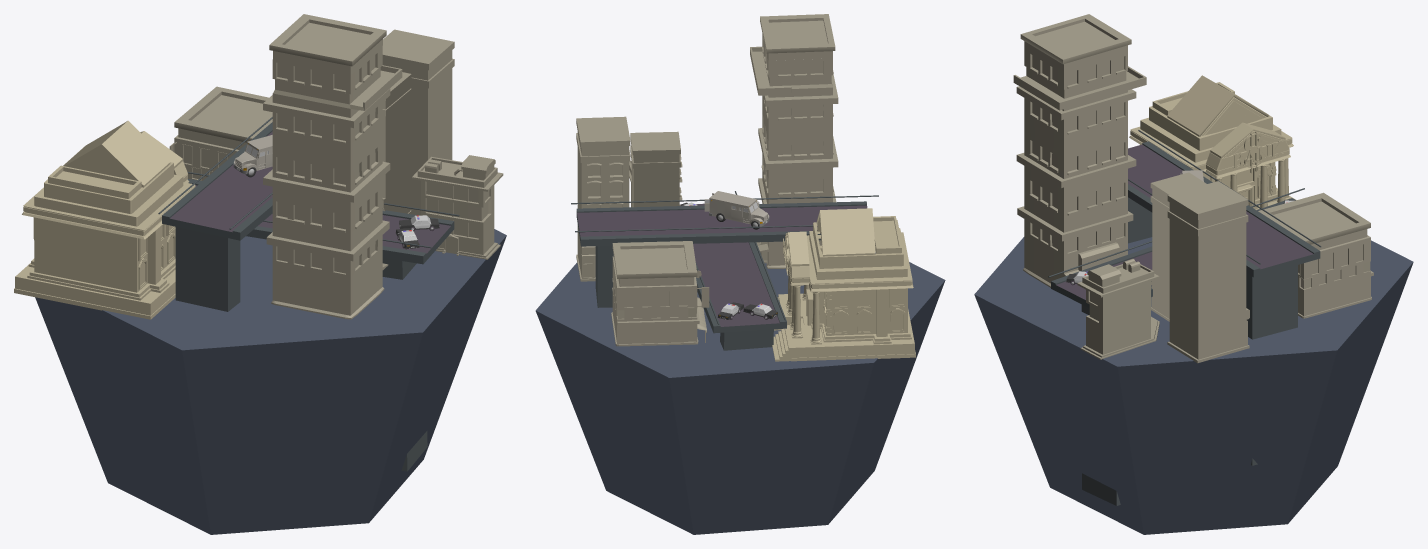
The model's file is island3.gltf.
The picture shows the model from 3 angles, left to right: view 1: azimuth 30°, elevation 25°; view 2: azimuth 150°, elevation 25°; view 3: azimuth 270°, elevation 25°; orthographic projection. The views are drawn at different scales.
Parts seen in each view (by area): view 1: island03base, island03buildings, Bank_Geo, island03bridge, island03van, island03Police_Car1; view 2: island03base, island03buildings, Bank_Geo, island03bridge, island03van, island03Police_Car1; view 3: island03base, island03buildings, island03bridge, Bank_Geo.
Part boxes in pixels (box(x1,y1,x2,y2)): island03base: box(35, 229, 506, 534); island03buildings: box(169, 14, 503, 319); Bank_Geo: box(14, 120, 195, 319); island03bridge: box(158, 117, 459, 471); island03van: box(233, 135, 272, 177); island03Police_Car1: box(395, 215, 439, 249); island03base: box(535, 252, 945, 534); island03buildings: box(576, 14, 838, 346); Bank_Geo: box(772, 208, 915, 361); island03bridge: box(571, 191, 878, 350); island03van: box(704, 191, 769, 229); island03Police_Car1: box(680, 202, 777, 319); island03base: box(974, 237, 1413, 534); island03buildings: box(1013, 14, 1373, 363); island03bridge: box(1048, 130, 1321, 505); Bank_Geo: box(1129, 75, 1295, 210).
Size of the model in its own units: 52.35 by 56.24 by 51.05.
